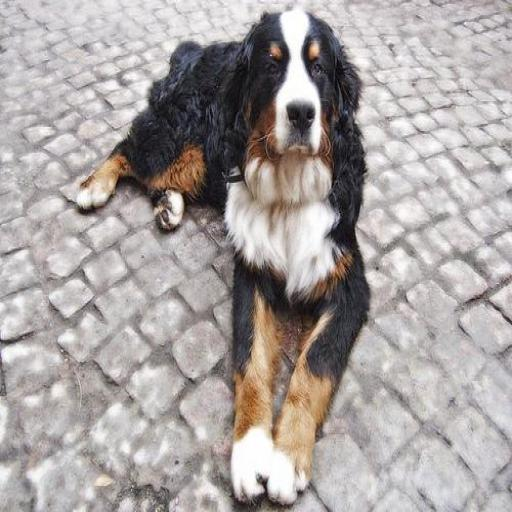dog_face: (232, 10, 354, 160)
